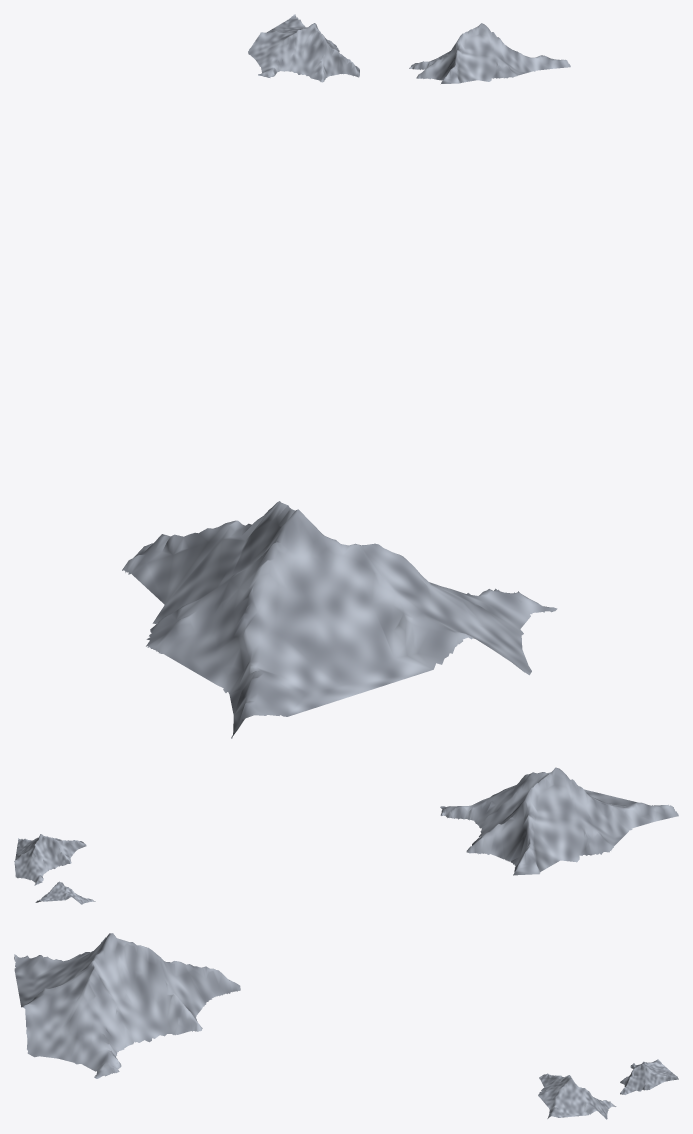
Rendered from Homepage.glb.
The picture shows the model from 3 angles, top to bottom: view 1: azimuth 30°, elevation 25°; view 2: azimuth 150°, elevation 25°; view 3: azimuth 270°, elevation 25°; orthographic projection. The views are drawn at different scales.
Parts seen in each view (by area): view 1: HomepagePeaks.BG, HomepagePeaks, HomepagePeaks.002; view 2: HomepagePeaks.BG, HomepagePeaks, HomepagePeaks.002; view 3: HomepagePeaks.BG, HomepagePeaks, HomepagePeaks.002.
Boxes of the visible parts, x1,y1,x2,y2 form: HomepagePeaks.BG: [122, 501, 557, 738]; HomepagePeaks: [409, 23, 570, 83]; HomepagePeaks.002: [248, 14, 359, 82]; HomepagePeaks.BG: [440, 767, 678, 875]; HomepagePeaks: [14, 834, 86, 885]; HomepagePeaks.002: [35, 881, 95, 904]; HomepagePeaks.BG: [14, 933, 240, 1078]; HomepagePeaks: [538, 1073, 616, 1119]; HomepagePeaks.002: [620, 1059, 678, 1094].
Bounding box in the file's own units: 505 × 103 × 645.
1 material, 1 textured.
